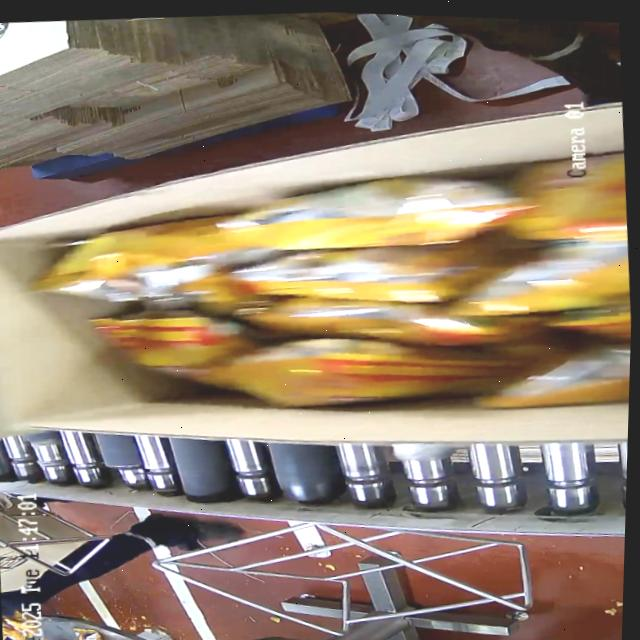FRENCH_CHEESE: (20, 130, 636, 435)
